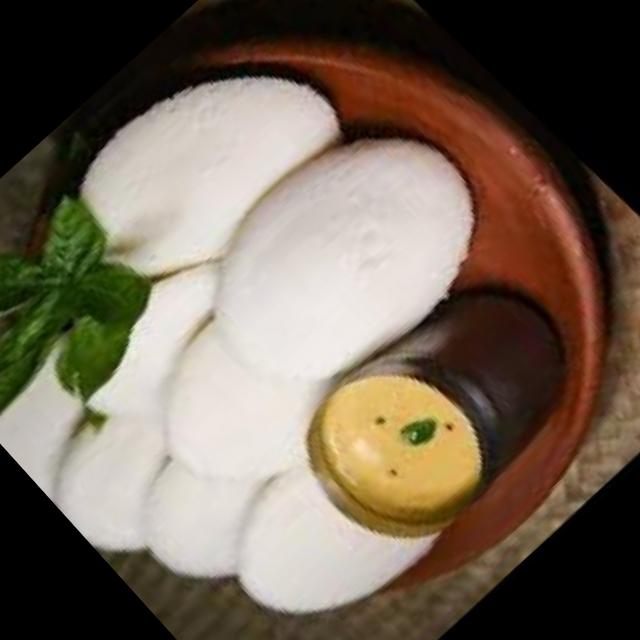idli: (168, 80, 528, 433), (46, 9, 367, 322), (125, 272, 379, 524), (202, 417, 448, 640), (50, 222, 275, 440), (27, 369, 230, 572), (115, 414, 309, 606), (0, 309, 165, 504)
